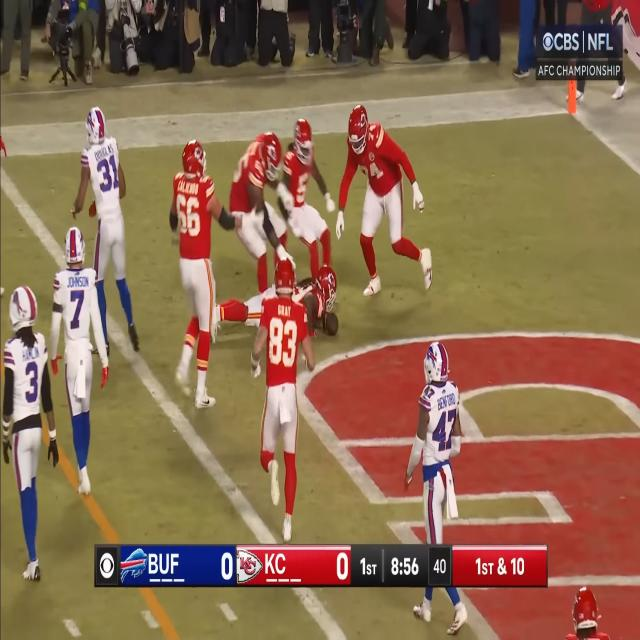Ball: (324, 312, 340, 338)
